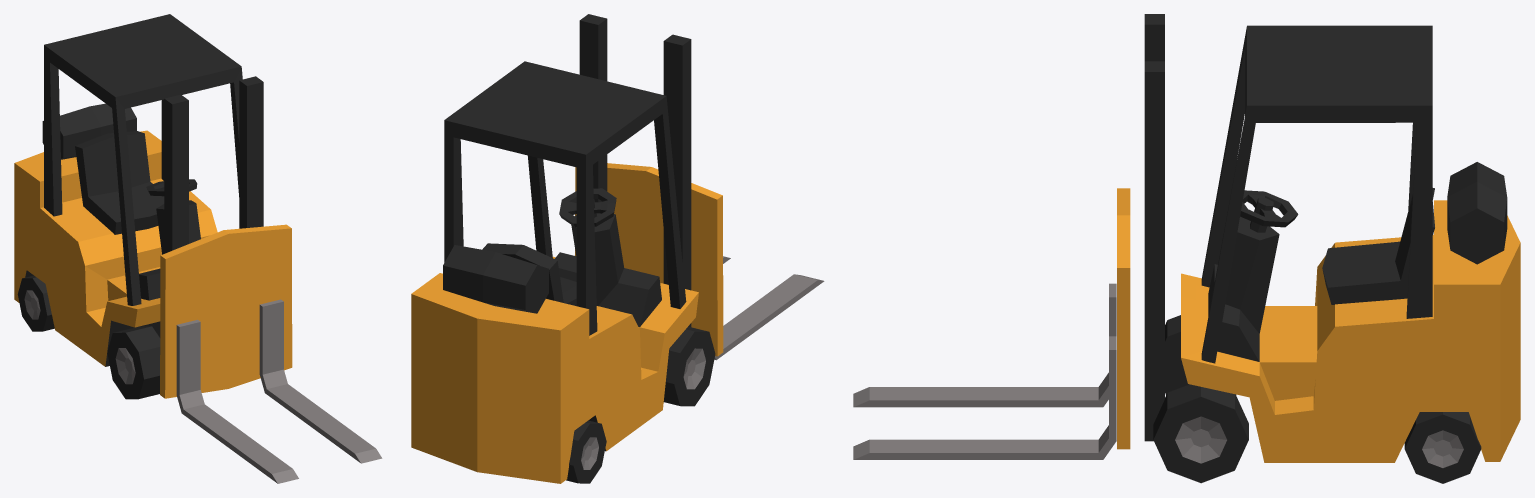
File: vehicles_forklift.fbx
3 renders of one model, left to right at view 1: azimuth 30°, elevation 25°; view 2: azimuth 150°, elevation 25°; view 3: azimuth 270°, elevation 25°, orthographic. The views are drawn at different scales.
Visible parts, largest first — view 1: forklift_base, lift, forklift_wheel_FR, forklift_wheel_BR; view 2: forklift_base, lift, forklift_wheel_FR, forklift_wheel_BR; view 3: forklift_base, lift, forklift_wheel_FL, forklift_wheel_BL, forklift_wheel_FR.
Part boxes in pixels (left/top/right/bottom): forklift_base: left=14, top=14, right=263, bottom=366; lift: left=160, top=224, right=382, bottom=483; forklift_wheel_FR: left=107, top=326, right=160, bottom=399; forklift_wheel_BR: left=17, top=275, right=54, bottom=331; forklift_base: left=411, top=14, right=698, bottom=483; lift: left=575, top=163, right=824, bottom=360; forklift_wheel_FR: left=663, top=326, right=715, bottom=406; forklift_wheel_BR: left=566, top=420, right=606, bottom=483; forklift_base: left=1144, top=14, right=1520, bottom=462; lift: left=853, top=188, right=1130, bottom=459; forklift_wheel_FL: left=1153, top=384, right=1248, bottom=483; forklift_wheel_BL: left=1404, top=412, right=1481, bottom=483; forklift_wheel_FR: left=1165, top=315, right=1188, bottom=394.
Size of the model in its own units: 63.41 by 131 by 200.
